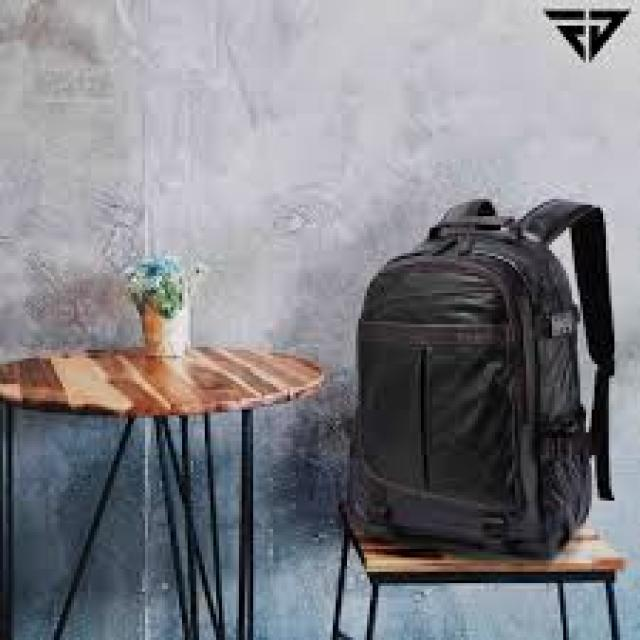backpack: (346, 195, 616, 559)
